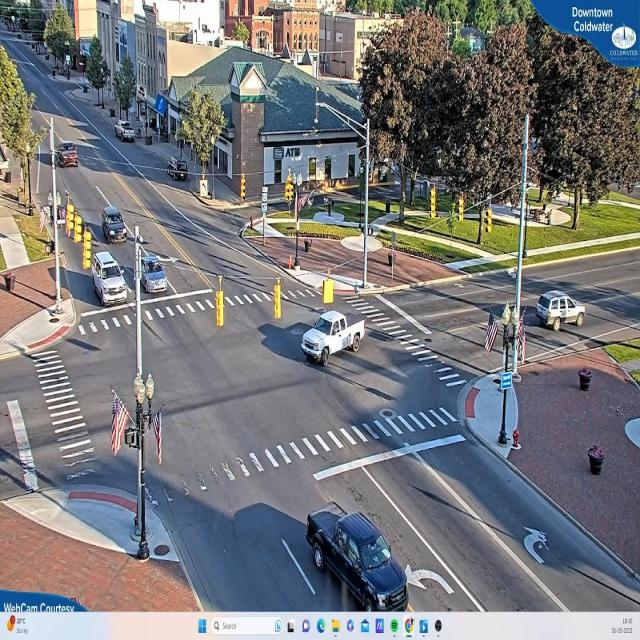car: (308, 509, 412, 612), (304, 313, 369, 361), (90, 250, 128, 308), (536, 291, 582, 333), (142, 255, 168, 300), (102, 208, 130, 245), (56, 142, 79, 169), (164, 157, 191, 180), (116, 123, 136, 143)
